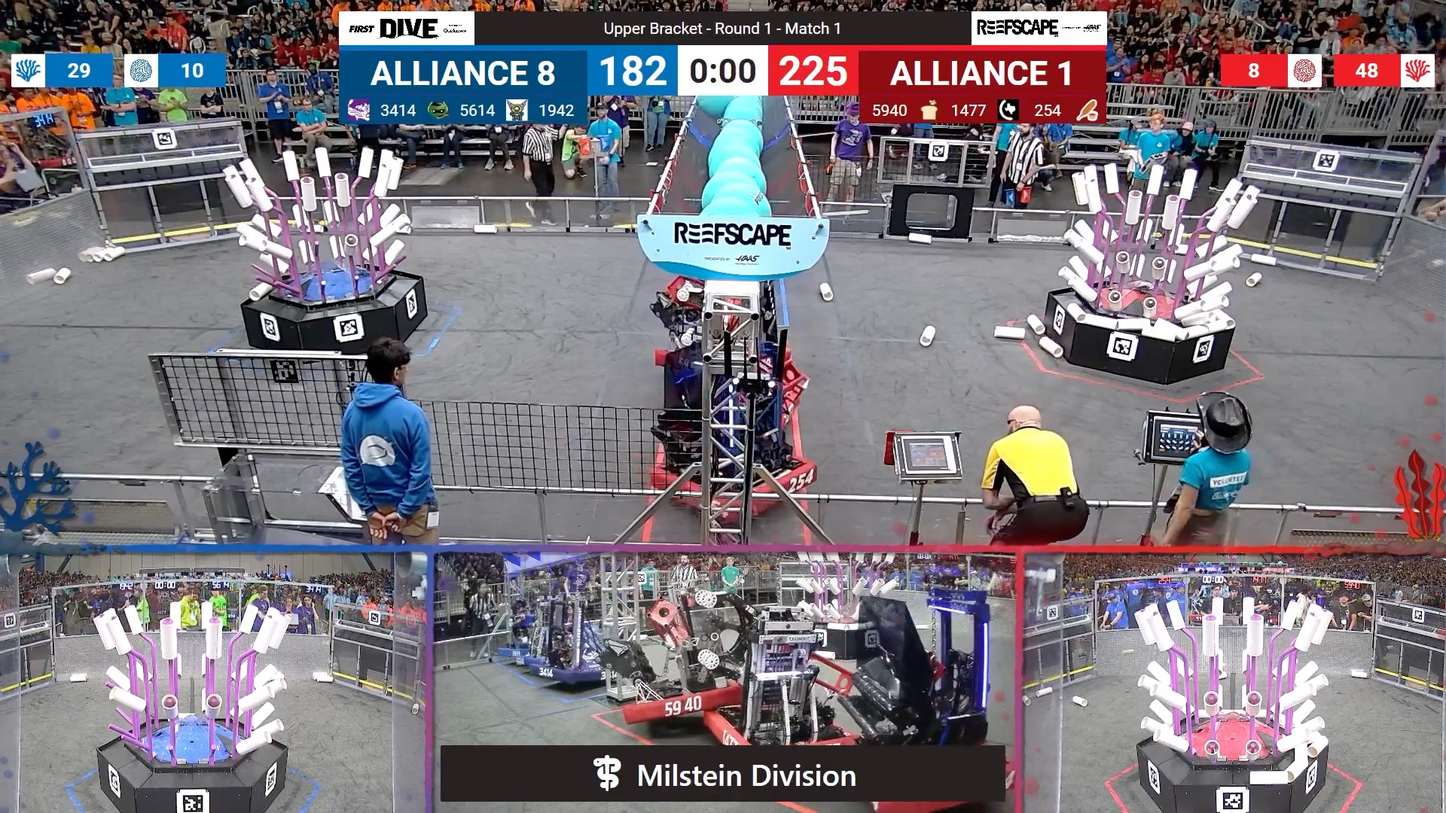bumpers: (647, 448, 817, 520), (621, 667, 761, 732), (702, 697, 858, 745), (512, 658, 618, 688), (643, 345, 679, 385)
